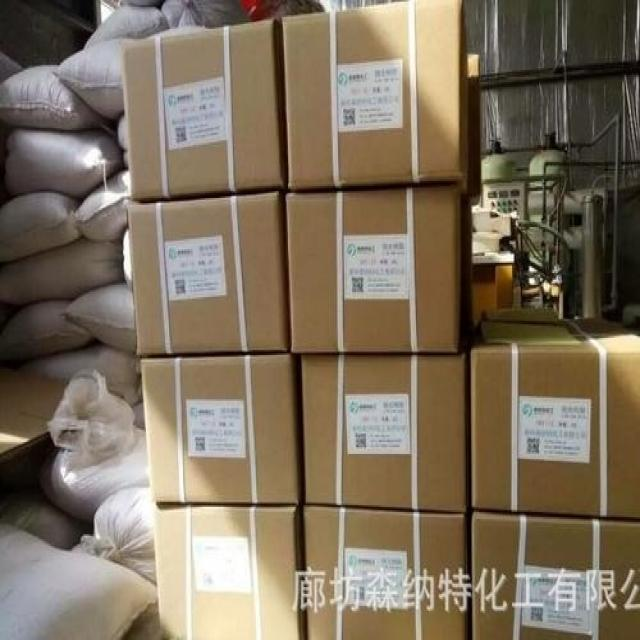Carton: (283, 0, 460, 186), (471, 355, 639, 519), (287, 191, 454, 352), (123, 22, 278, 193), (301, 358, 463, 512), (127, 196, 282, 355), (142, 364, 294, 503), (468, 515, 639, 638), (300, 510, 462, 638), (150, 512, 297, 638)
